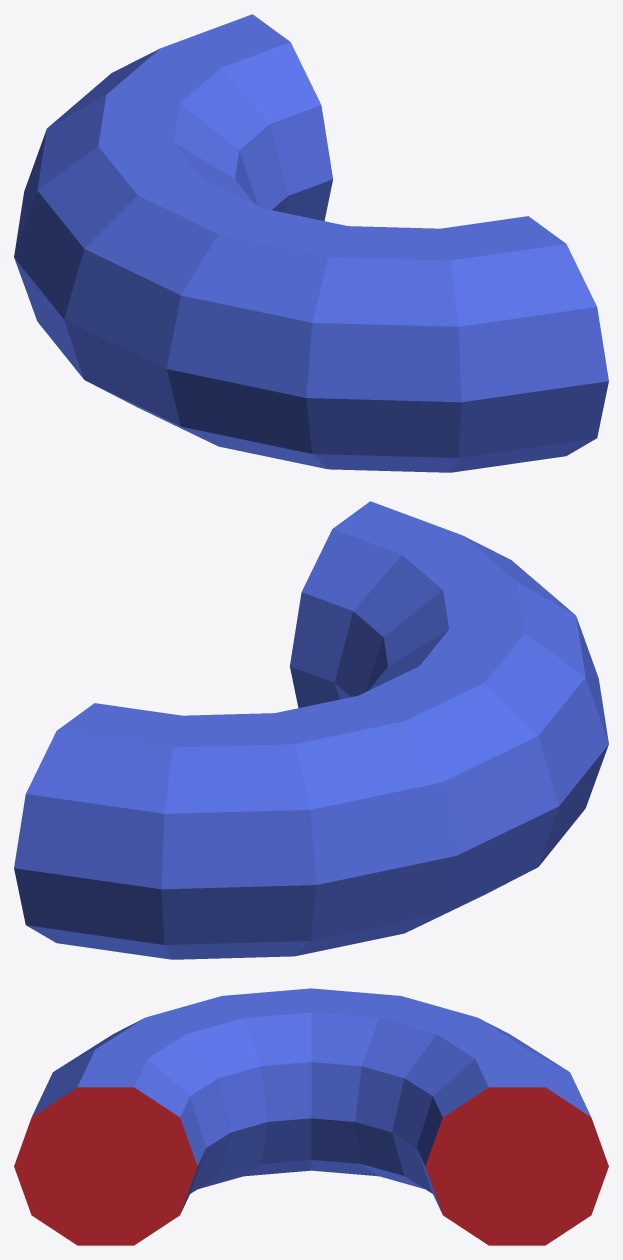
3 renders of one model, top to bottom at view 1: azimuth 30°, elevation 25°; view 2: azimuth 150°, elevation 25°; view 3: azimuth 270°, elevation 25°, orthographic. The views are drawn at different scales.
Parts seen in each view (by area): view 1: Torus; view 2: Torus; view 3: Torus.
Part boxes in pixels (x1,y1,x2,y2): Torus: [14, 14, 608, 472]; Torus: [14, 501, 608, 959]; Torus: [14, 988, 608, 1245].
Bounding box in the file's own units: 162 × 95.11 × 324.
